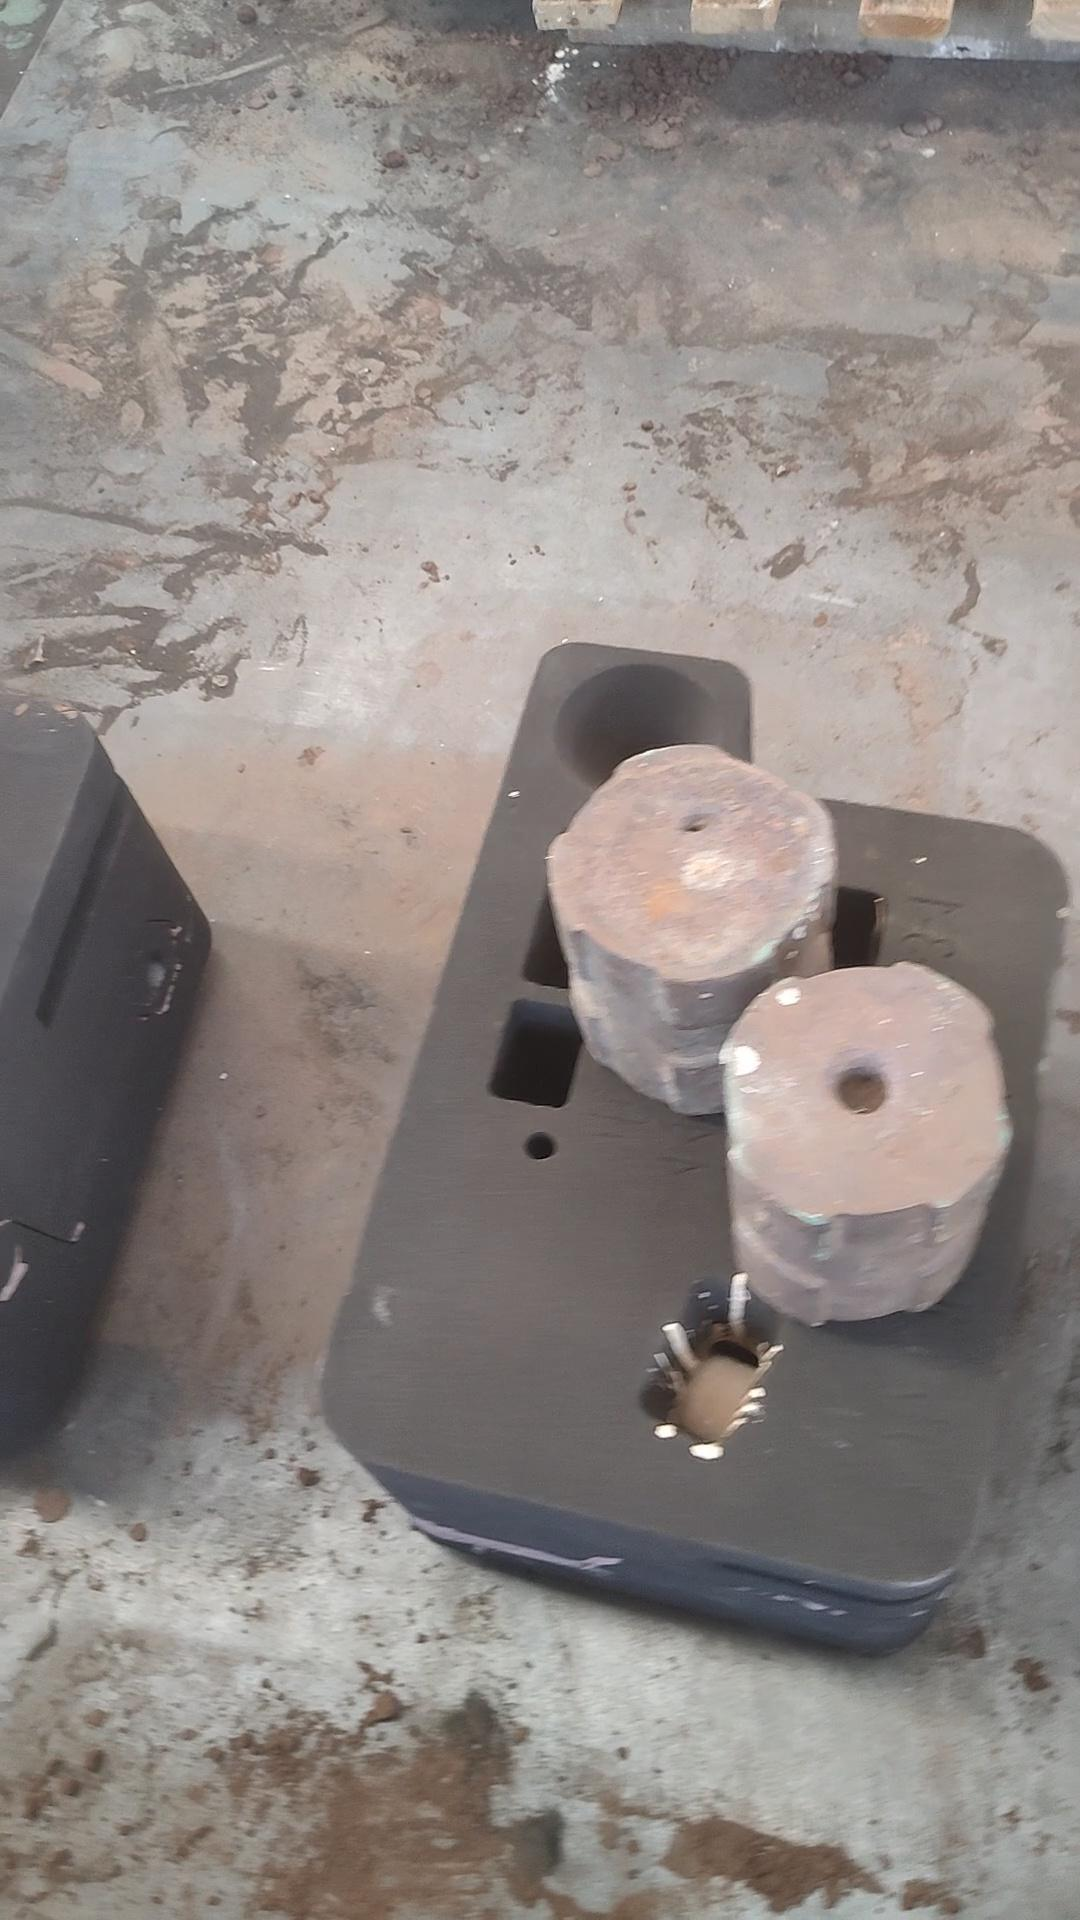pouring hole: (549, 661, 724, 796)
